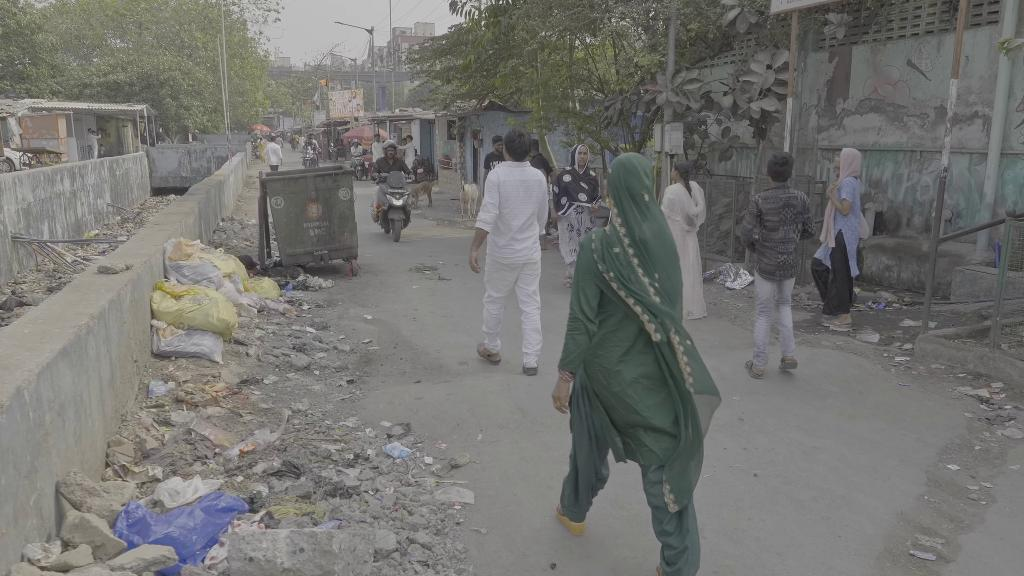dustbin: (253, 164, 368, 279), (708, 259, 755, 292), (381, 439, 414, 461)
garbage: (111, 494, 260, 565), (163, 233, 281, 308), (152, 275, 241, 337), (143, 316, 237, 365)
